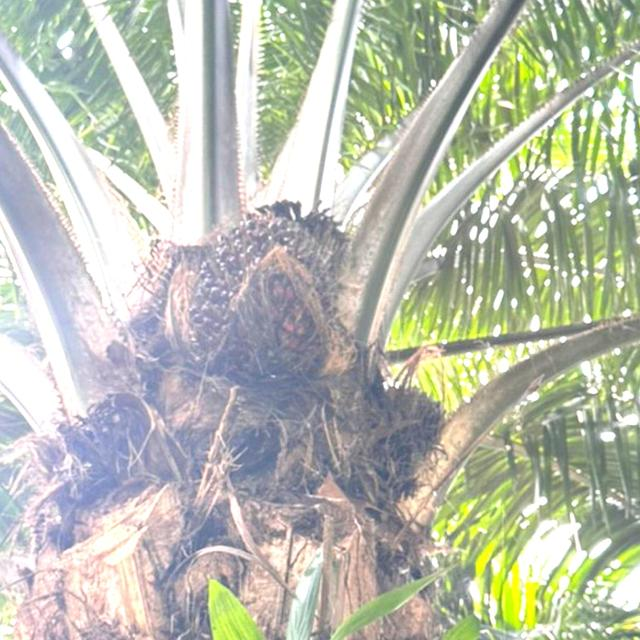ripe: (137, 182, 371, 398)
